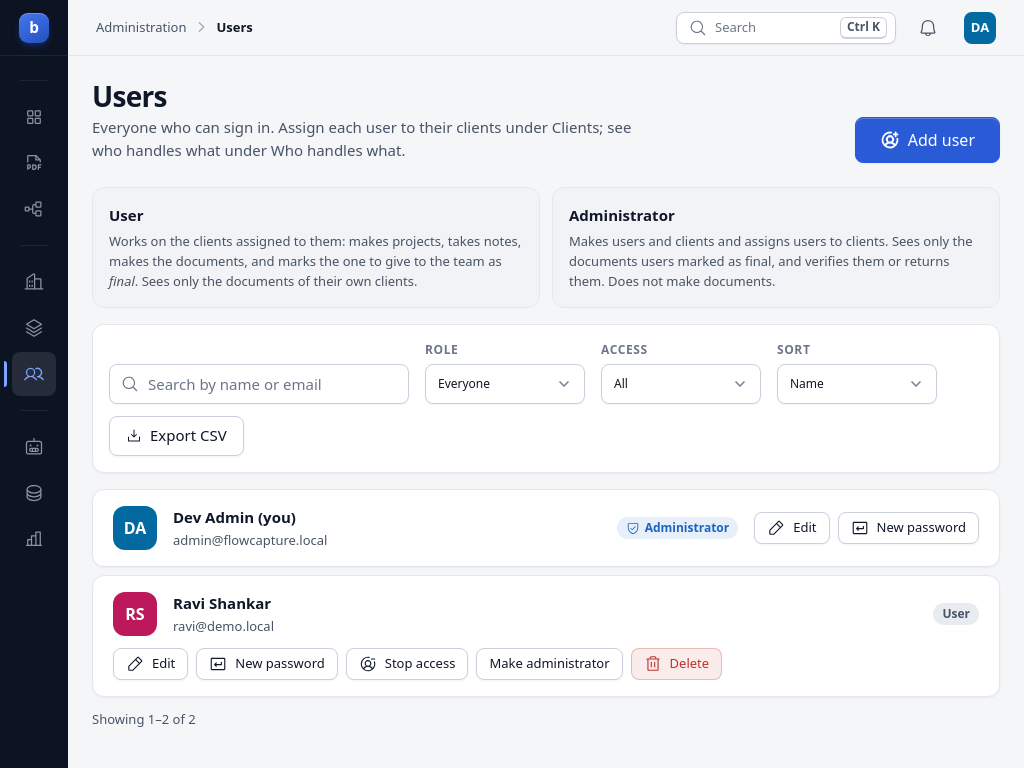
Test: deleting a user (administrator only) › offers Delete beside everybody except yourself, asks first, and removes the person
Click the button with aria-label "Delete Ravi Shankar".
click(676, 664)  # box [631, 648, 722, 680]
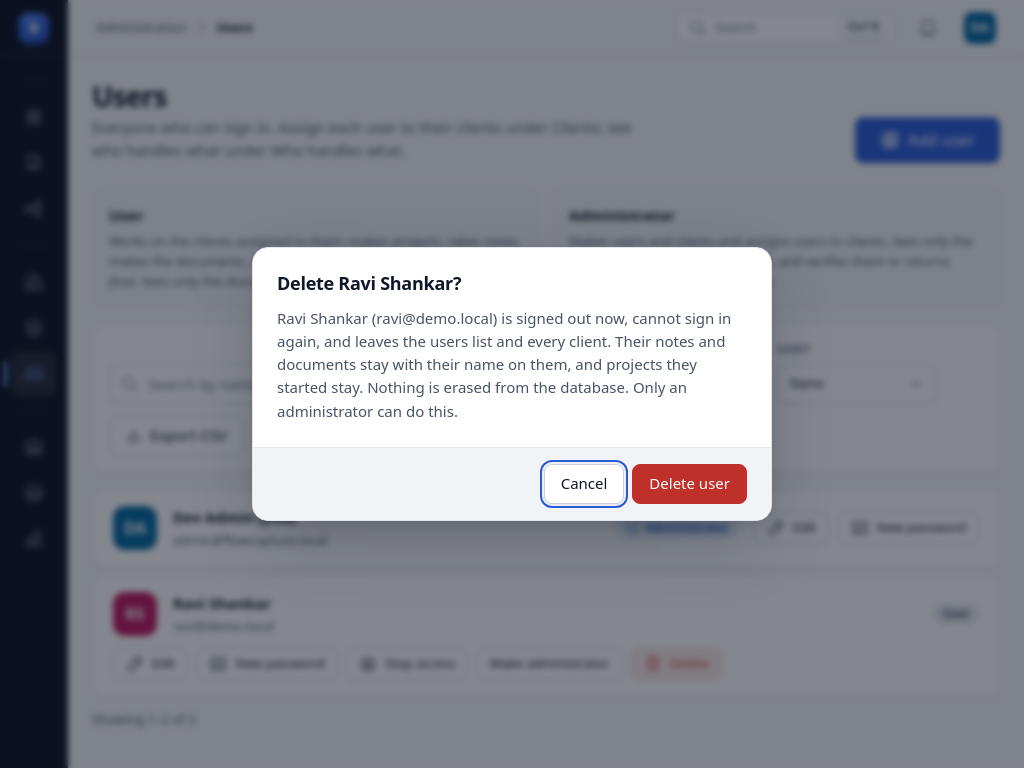
Check: the text "Nothing is erased from the database" is shown, box [277, 308, 731, 421]
Click the button "Cancel".
click(584, 484)  # box [544, 464, 624, 504]
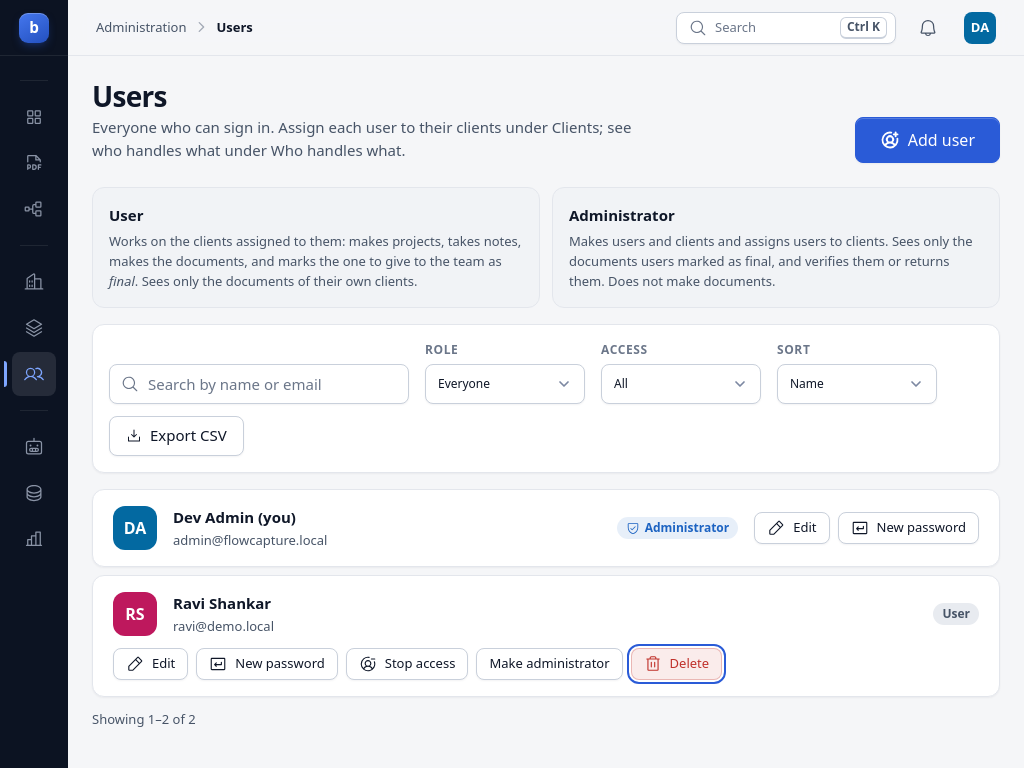
Click the button with aria-label "Delete Ravi Shankar".
click(676, 664)  # box [631, 648, 722, 680]
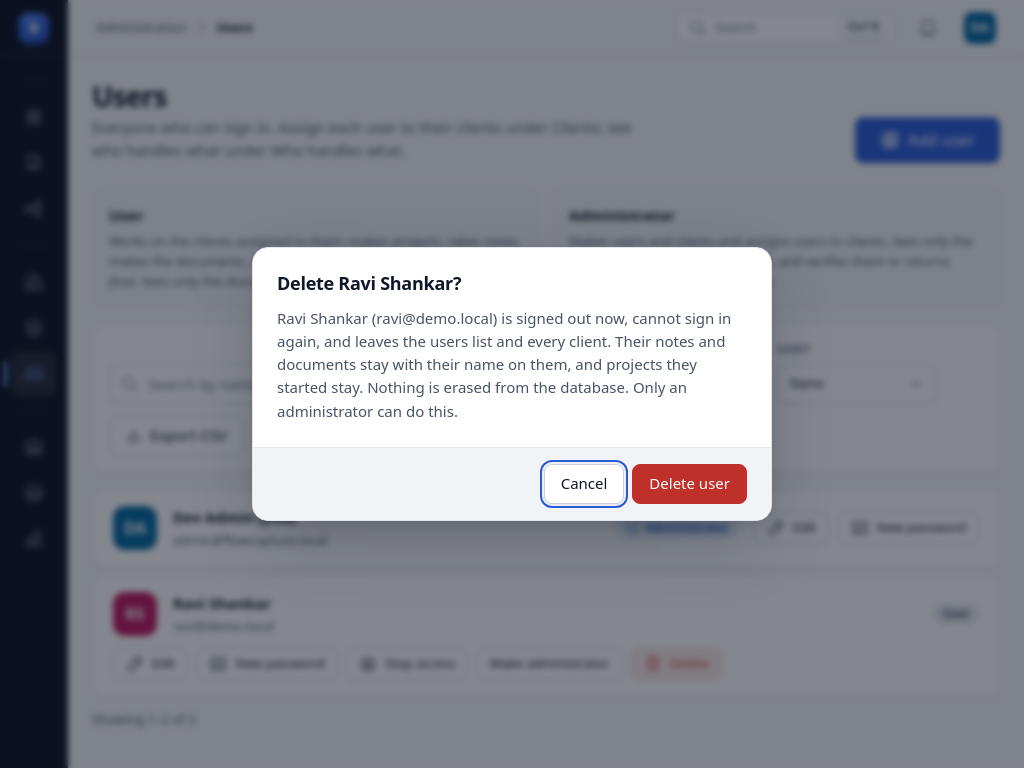
Click the button "Delete user".
click(690, 484)  # box [632, 464, 747, 504]
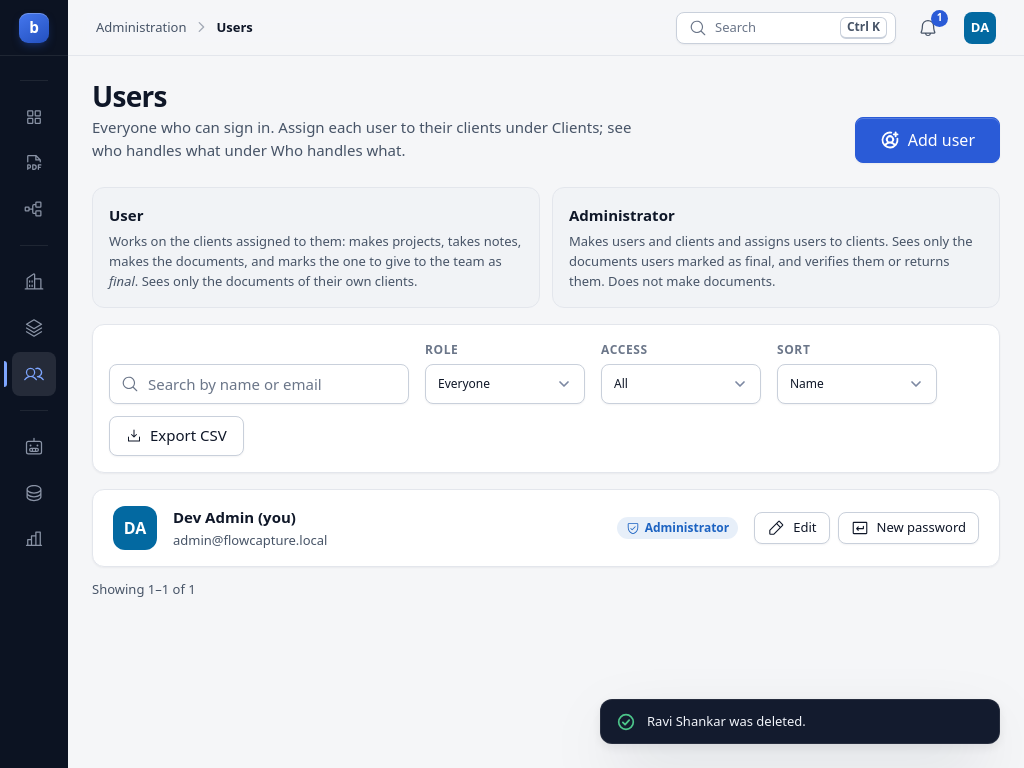
Check: the text "Ravi Shankar was deleted." is shown, box [647, 712, 806, 730]
